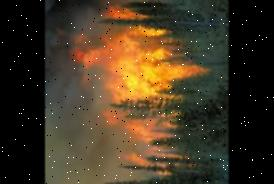fire: (64, 0, 211, 167)
